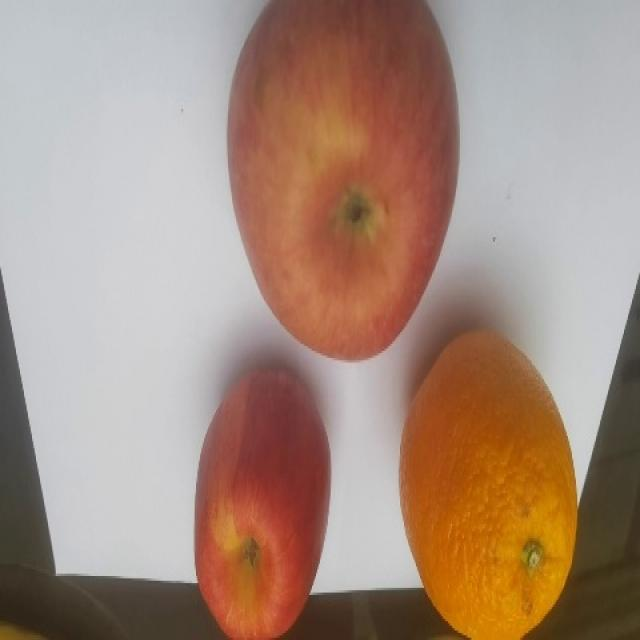Apple: (226, 0, 460, 361), (193, 365, 332, 639)
Orange: (398, 328, 579, 639)
